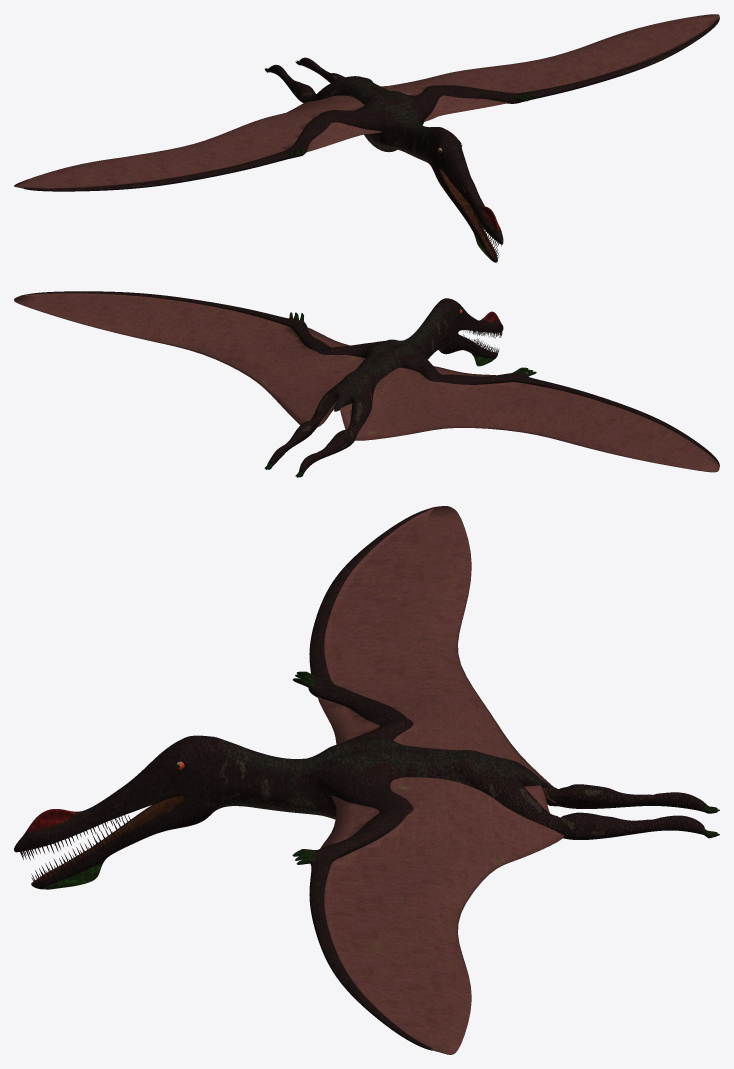
File: ornithocheirus.glb
The picture shows the model from 3 angles, top to bottom: view 1: azimuth 30°, elevation 25°; view 2: azimuth 150°, elevation 25°; view 3: azimuth 270°, elevation 25°; orthographic projection. The views are drawn at different scales.
Visible parts, largest first — view 1: Object_2, Object_3; view 2: Object_2, Object_3; view 3: Object_2, Object_3.
Boxes of the visible parts, bbox=[...] form: Object_2: bbox=[14, 14, 719, 262]; Object_3: bbox=[14, 19, 718, 262]; Object_2: bbox=[14, 291, 719, 476]; Object_3: bbox=[27, 291, 719, 477]; Object_2: bbox=[14, 506, 717, 1054]; Object_3: bbox=[14, 508, 719, 1049].
Size of the model in its own units: 3.23 by 0.4214 by 1.76.
Materials: 2 (2 with a texture image).
